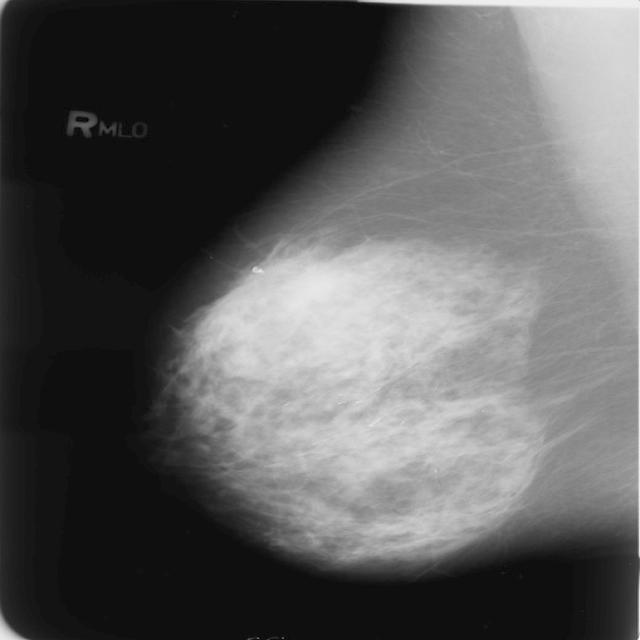tumour: (278, 265, 362, 305)
